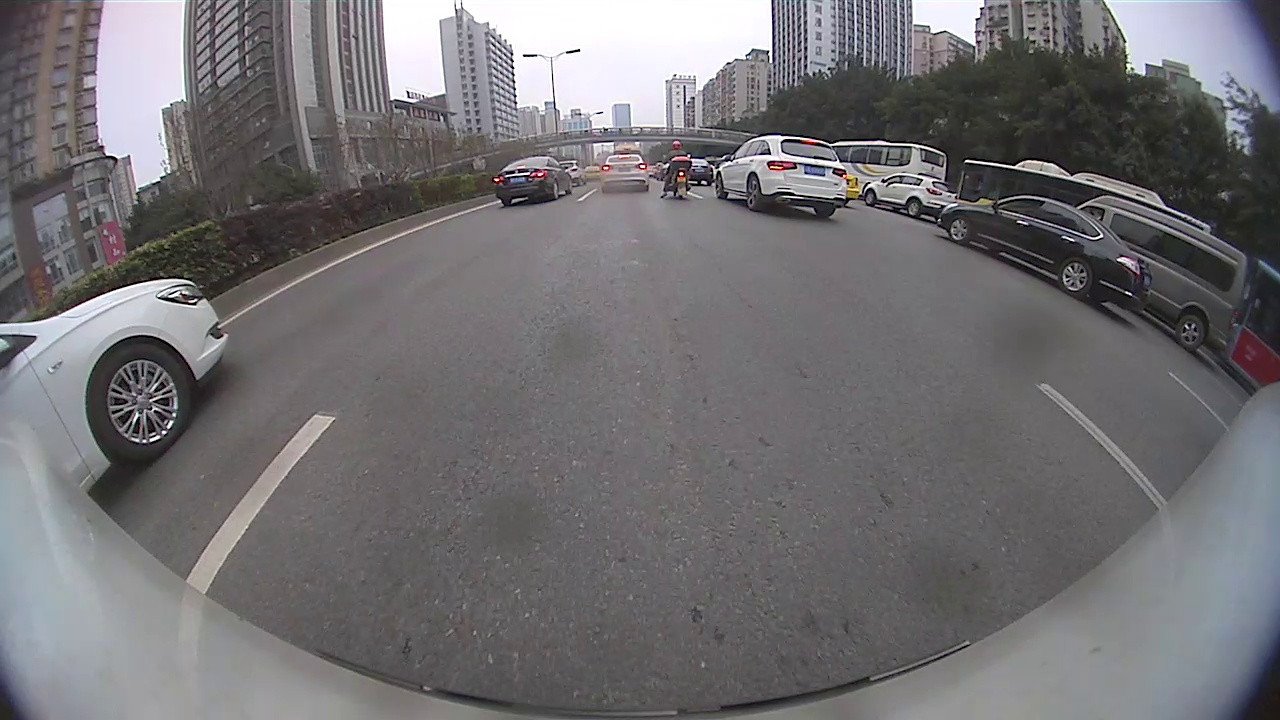bus: (963, 155, 1213, 234), (1226, 258, 1279, 388), (823, 143, 950, 193)
car: (0, 272, 234, 498), (1079, 195, 1252, 351), (937, 190, 1153, 308), (712, 132, 850, 219), (863, 168, 958, 216), (493, 151, 575, 206), (601, 153, 652, 195)
front: (86, 342, 193, 464), (948, 215, 969, 243), (713, 171, 727, 201), (863, 189, 877, 208)
rear: (1058, 257, 1092, 300), (1175, 314, 1206, 351), (745, 173, 766, 211), (906, 197, 919, 218), (550, 178, 560, 201)
rider: (657, 142, 693, 201)
